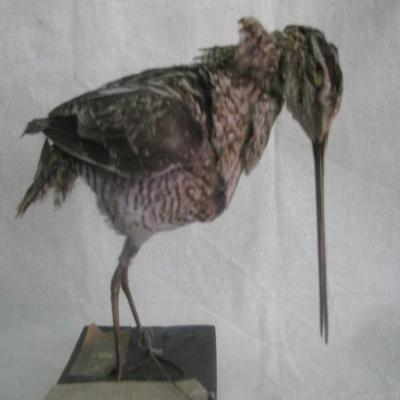natural_science_collection: (15, 17, 344, 382)
